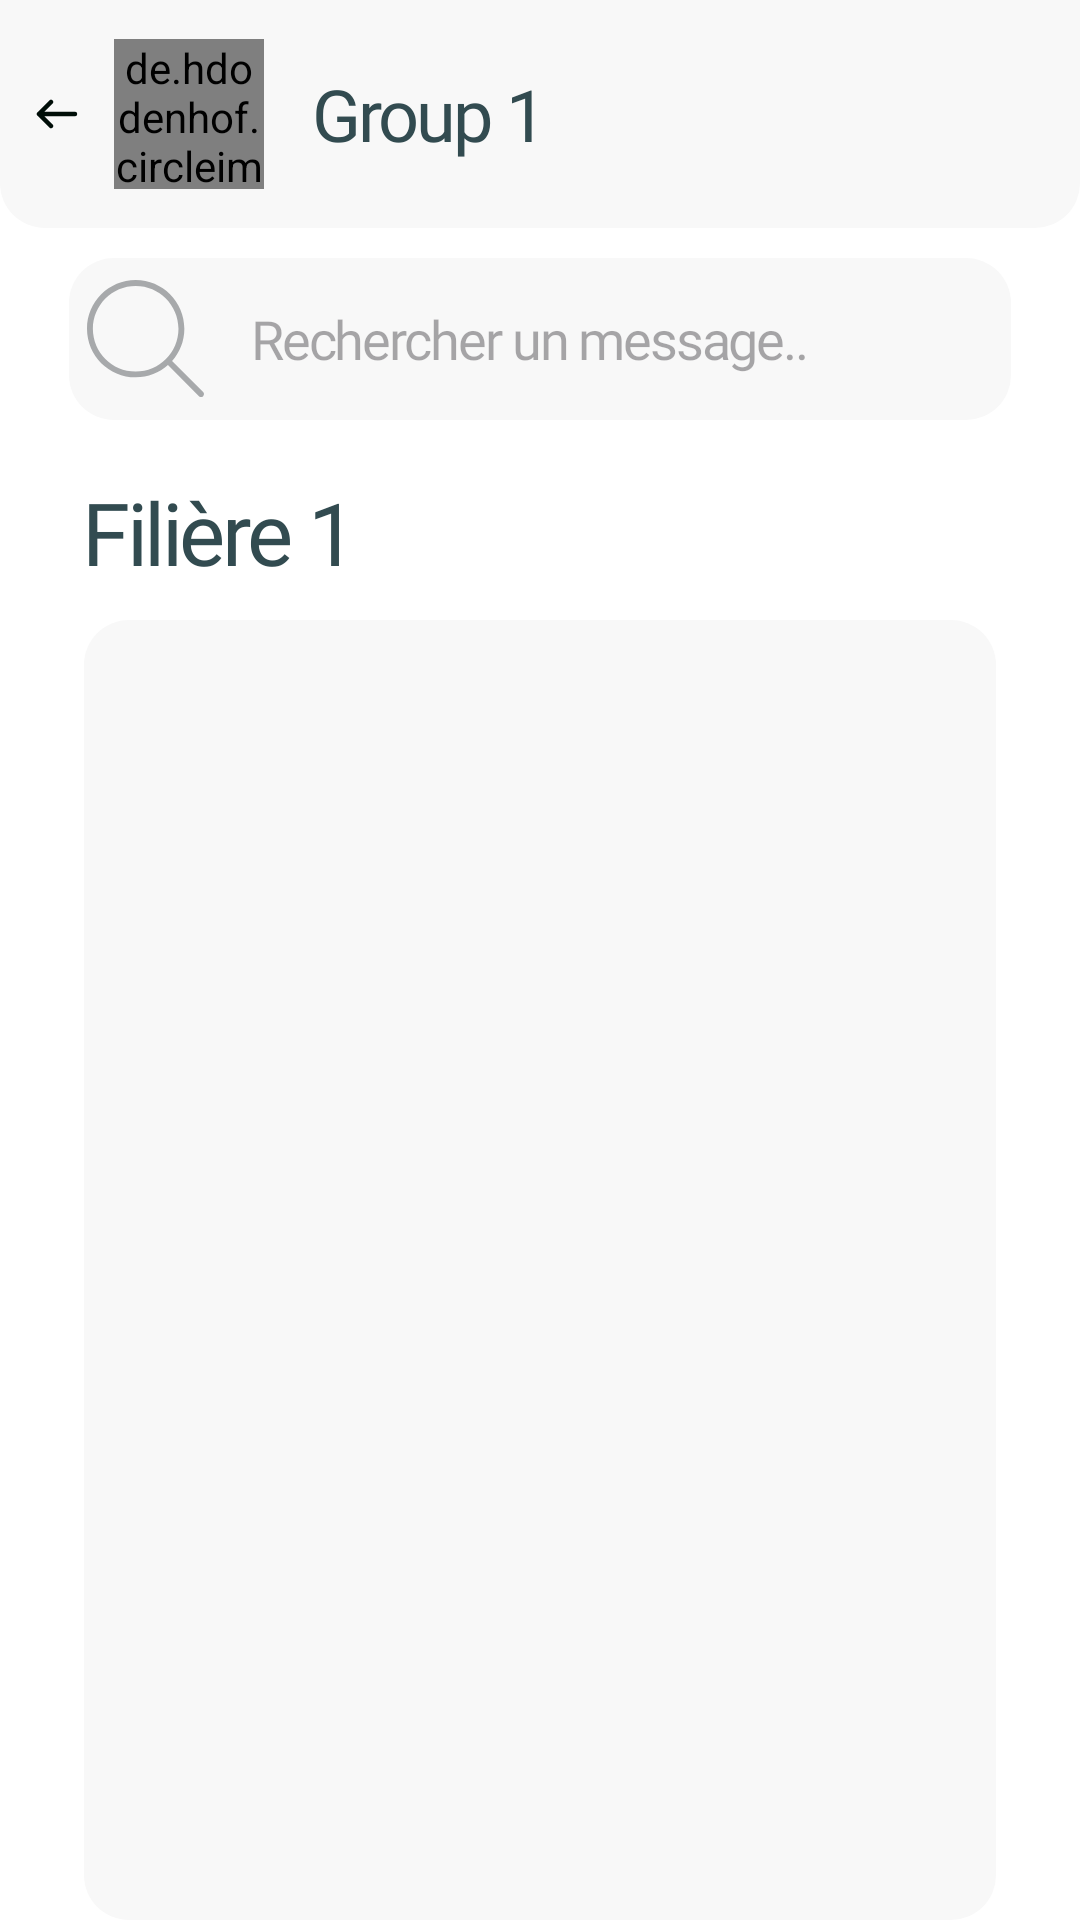

Screen size 1080x1920. Icon name, then its box in pixels as (x1, y1, x2, y2):
arrow: (36, 99, 77, 129)
